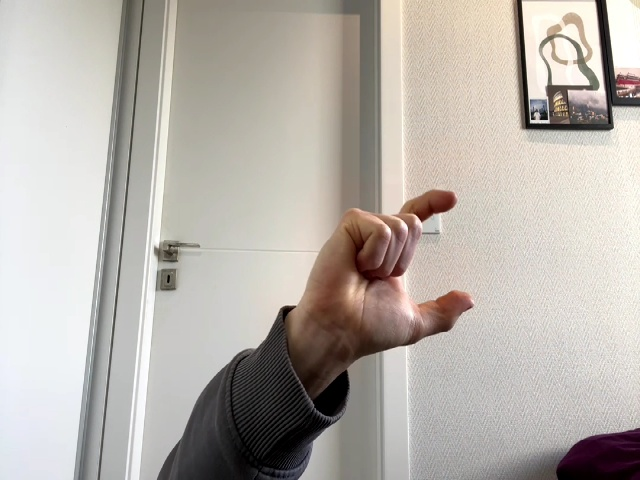C: (301, 190, 474, 366)
